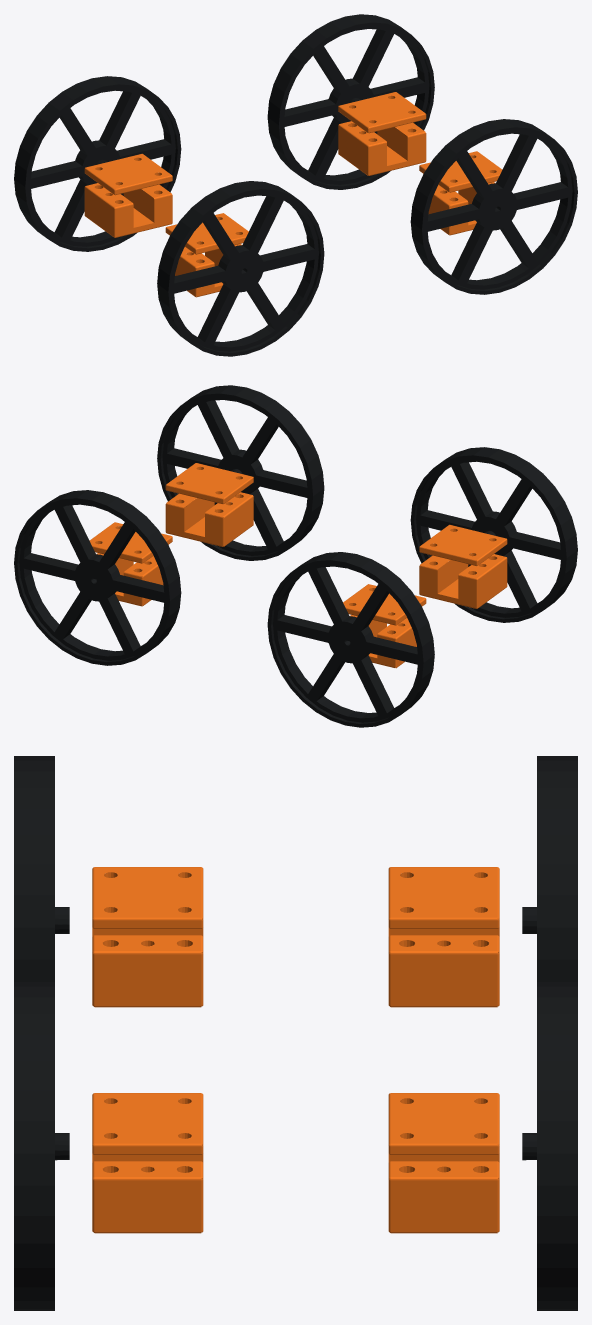
Rendered from wheels.glb.
3 renders of one model, top to bottom at view 1: azimuth 30°, elevation 25°; view 2: azimuth 150°, elevation 25°; view 3: azimuth 270°, elevation 25°, orthographic. The views are drawn at different scales.
Parts seen in each view (by area): view 1: mesh_rubber_and_chip_18, mesh_rubber_and_chip_20, mesh_rubber_and_chip_19, mesh_rubber_and_chip_17, print_motor_saddle__4, print_motor_saddle__2, print_motor_cap__4, print_motor_cap__2, print_motor_cap__1, print_motor_cap__3, print_motor_saddle__1, print_motor_saddle__3; view 2: mesh_rubber_and_chip_17, mesh_rubber_and_chip_19, mesh_rubber_and_chip_20, mesh_rubber_and_chip_18, print_motor_saddle__3, print_motor_saddle__1, print_motor_cap__3, print_motor_cap__1, print_motor_cap__2, print_motor_cap__4, print_motor_saddle__2, print_motor_saddle__4; view 3: mesh_rubber_and_chip_19, mesh_rubber_and_chip_20, mesh_rubber_and_chip_18, mesh_rubber_and_chip_17, print_motor_saddle__2, print_motor_saddle__4, print_motor_saddle__1, print_motor_saddle__3, print_motor_cap__1, print_motor_cap__2, print_motor_cap__3, print_motor_cap__4.
Boxes of the visible parts, <box> form: mesh_rubber_and_chip_18: <box>157,181,324,356</box>; mesh_rubber_and_chip_20: <box>410,119,577,294</box>; mesh_rubber_and_chip_19: <box>267,14,434,189</box>; mesh_rubber_and_chip_17: <box>14,76,181,251</box>; print_motor_saddle__4: <box>84,183,172,237</box>; print_motor_saddle__2: <box>338,121,426,175</box>; print_motor_cap__4: <box>84,153,172,195</box>; print_motor_cap__2: <box>338,92,426,133</box>; print_motor_cap__1: <box>419,151,502,192</box>; print_motor_cap__3: <box>165,213,248,254</box>; print_motor_saddle__1: <box>428,182,495,235</box>; print_motor_saddle__3: <box>175,244,241,297</box>; mesh_rubber_and_chip_17: <box>267,552,434,727</box>; mesh_rubber_and_chip_19: <box>14,490,181,665</box>; mesh_rubber_and_chip_20: <box>157,385,324,560</box>; mesh_rubber_and_chip_18: <box>410,447,577,622</box>; print_motor_saddle__3: <box>419,554,507,608</box>; print_motor_saddle__1: <box>165,492,253,546</box>; print_motor_cap__3: <box>419,524,507,566</box>; print_motor_cap__1: <box>165,463,253,504</box>; print_motor_cap__2: <box>89,522,172,563</box>; print_motor_cap__4: <box>343,584,426,625</box>; print_motor_saddle__2: <box>96,553,163,606</box>; print_motor_saddle__4: <box>350,615,416,668</box>; mesh_rubber_and_chip_19: <box>522,982,577,1310</box>; mesh_rubber_and_chip_20: <box>14,982,69,1310</box>; mesh_rubber_and_chip_18: <box>14,756,69,981</box>; mesh_rubber_and_chip_17: <box>522,756,577,981</box>; print_motor_saddle__2: <box>388,1144,499,1233</box>; print_motor_saddle__4: <box>388,918,499,1007</box>; print_motor_saddle__1: <box>92,1144,203,1233</box>; print_motor_saddle__3: <box>92,918,203,1007</box>; print_motor_cap__1: <box>92,1093,203,1154</box>; print_motor_cap__2: <box>388,1093,499,1154</box>; print_motor_cap__3: <box>92,867,203,928</box>; print_motor_cap__4: <box>388,867,499,928</box>.
Bounding box in the file's own units: 2.1 × 0.8 × 1.37.
